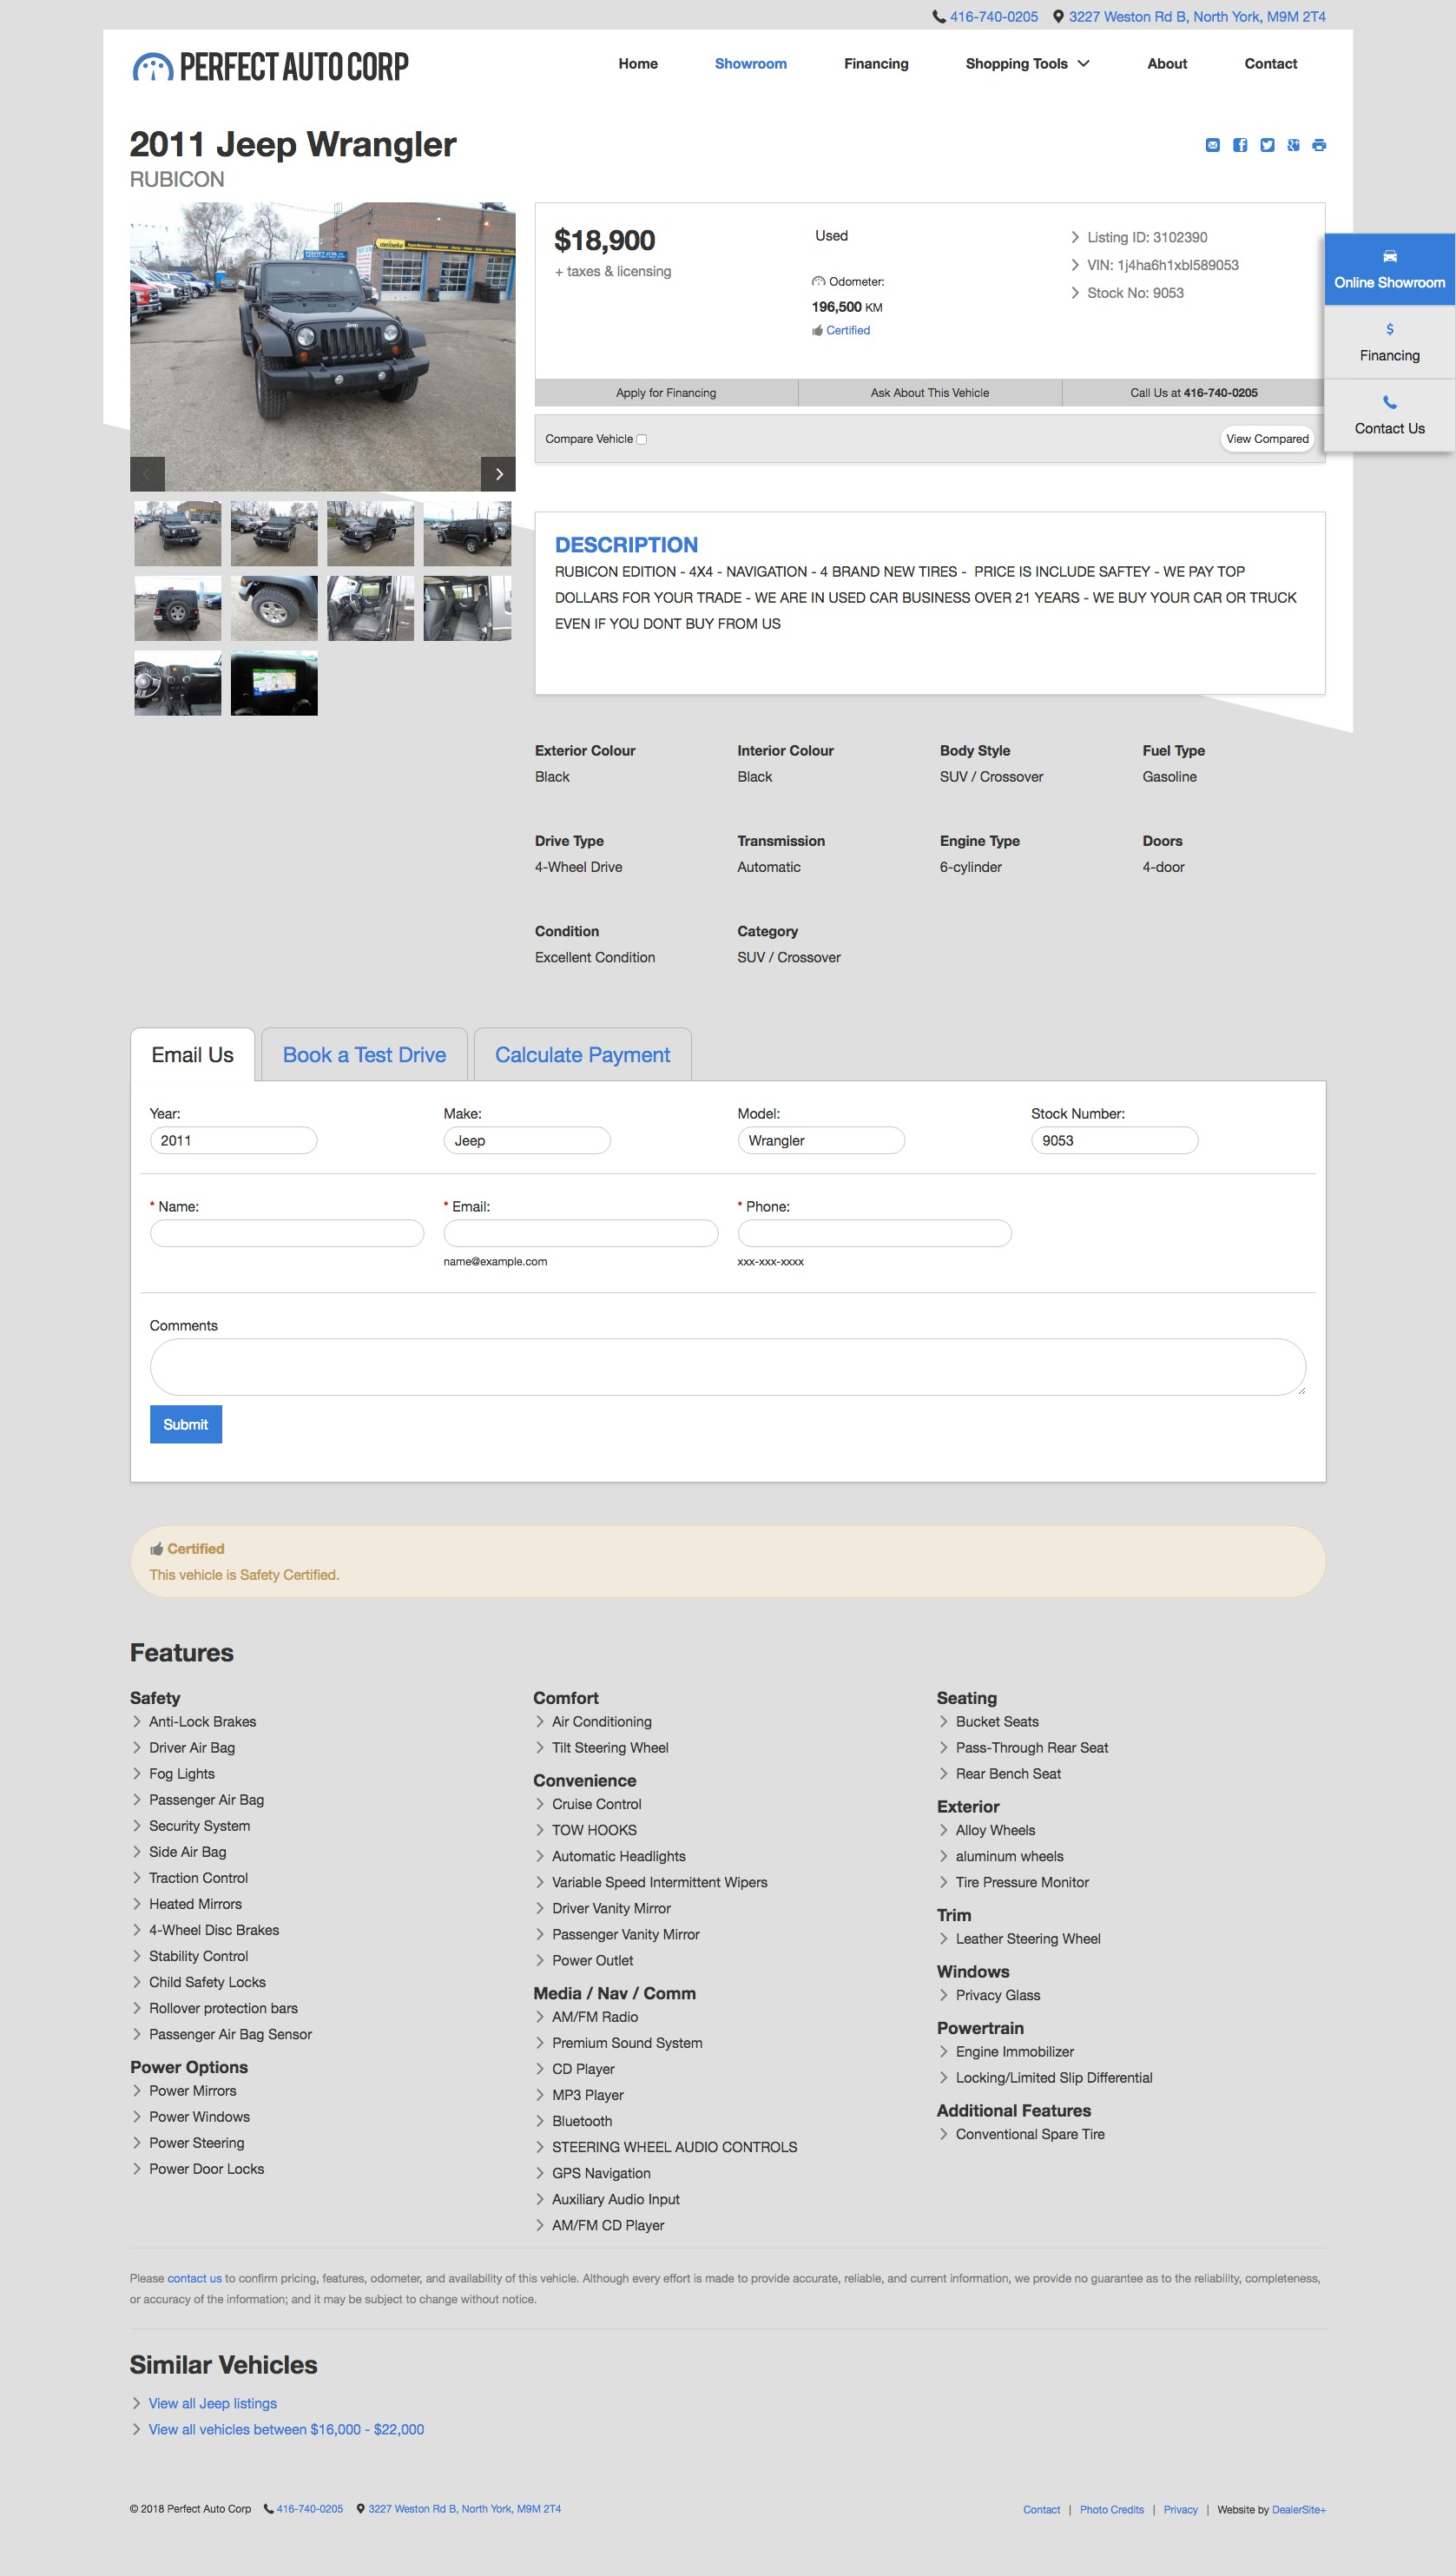car: (495, 469, 506, 481)
